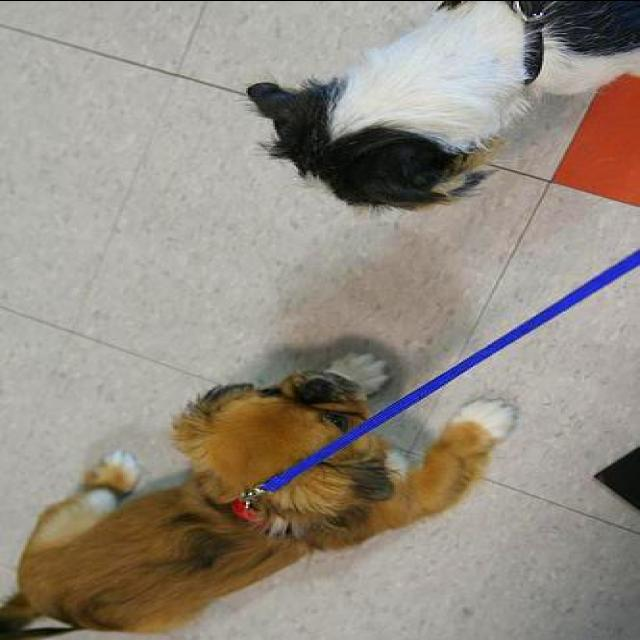pekinese: (0, 356, 511, 639)
